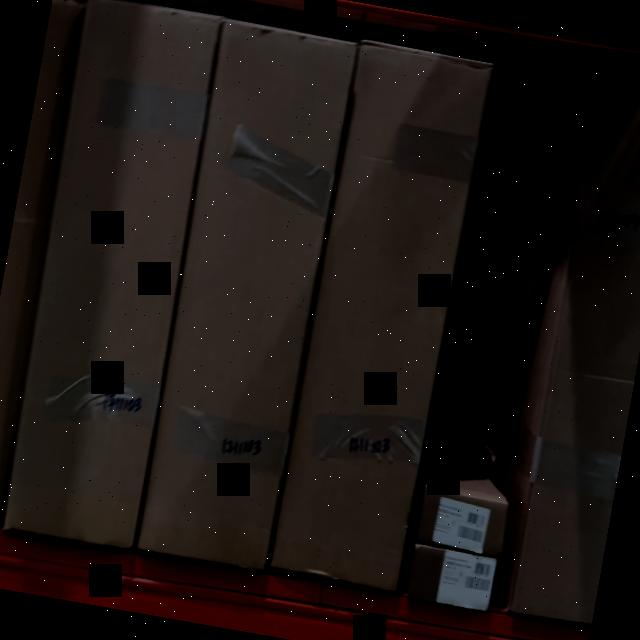box: (136, 21, 358, 570), (1, 0, 222, 547), (268, 43, 488, 589), (416, 488, 506, 554), (407, 546, 497, 610)
